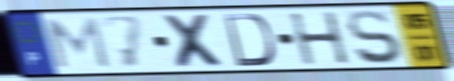7: (100, 13, 146, 71)
D: (221, 12, 278, 68)
H: (286, 10, 353, 68)
M: (42, 16, 113, 70)
S: (344, 8, 405, 67)
X: (158, 12, 232, 70)
